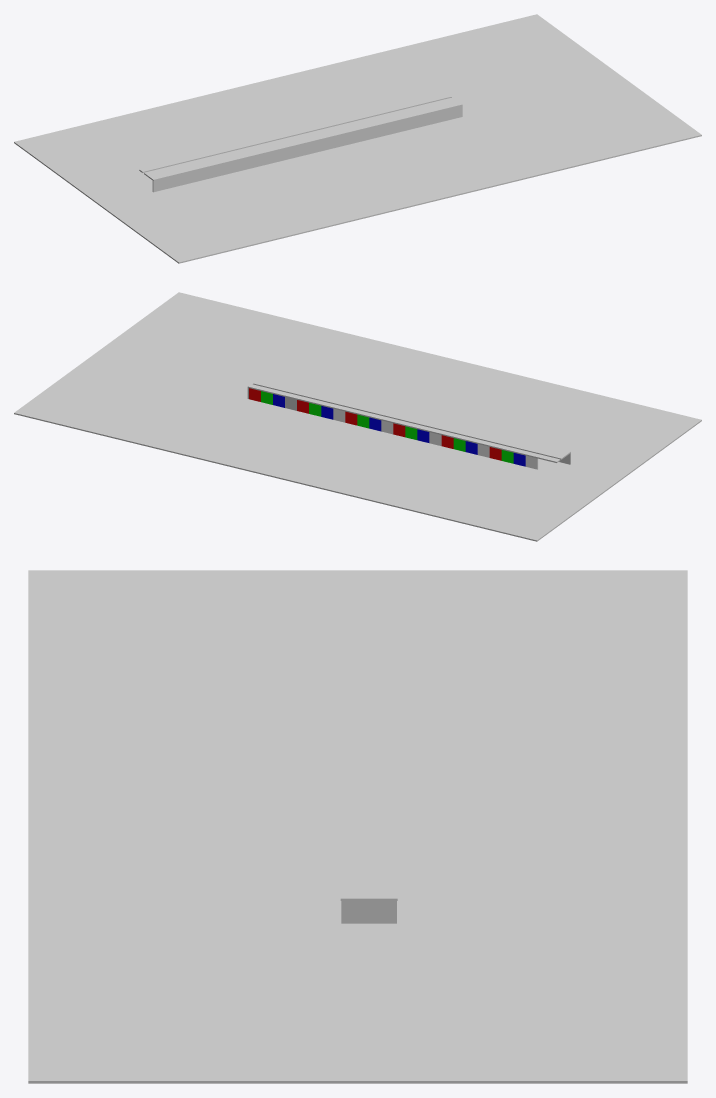
File: tunnel.glb
The picture shows the model from 3 angles, top to bottom: view 1: azimuth 30°, elevation 25°; view 2: azimuth 150°, elevation 25°; view 3: azimuth 270°, elevation 25°; orthographic projection. The views are drawn at different scales.
Visible parts, largest first — view 1: ground.001, wall-white, ceiling-large, ceiling-small; view 2: ground.001, ceiling-large, ceiling-small; view 3: ground.001, ceiling-large, ceiling-small, wall-white-end.
Boxes of the visible parts, x1,y1,x2,y2 form: ground.001: (14,14,701,263); wall-white: (152,106,462,192); ceiling-large: (144,97,462,180); ceiling-small: (139,94,451,172); ground.001: (14,292,701,541); ceiling-large: (252,376,570,459); ceiling-small: (247,384,560,462); ground.001: (28,570,687,1083); ceiling-large: (340,596,379,900); ceiling-small: (383,596,397,900); wall-white-end: (341,897,396,923).
Bounding box in the file's own units: 869 × 22 × 475.
